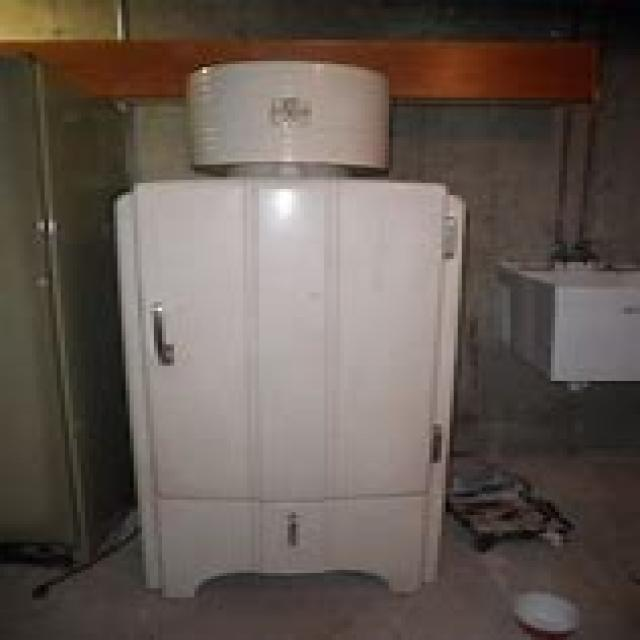fridge: (109, 174, 466, 597)
